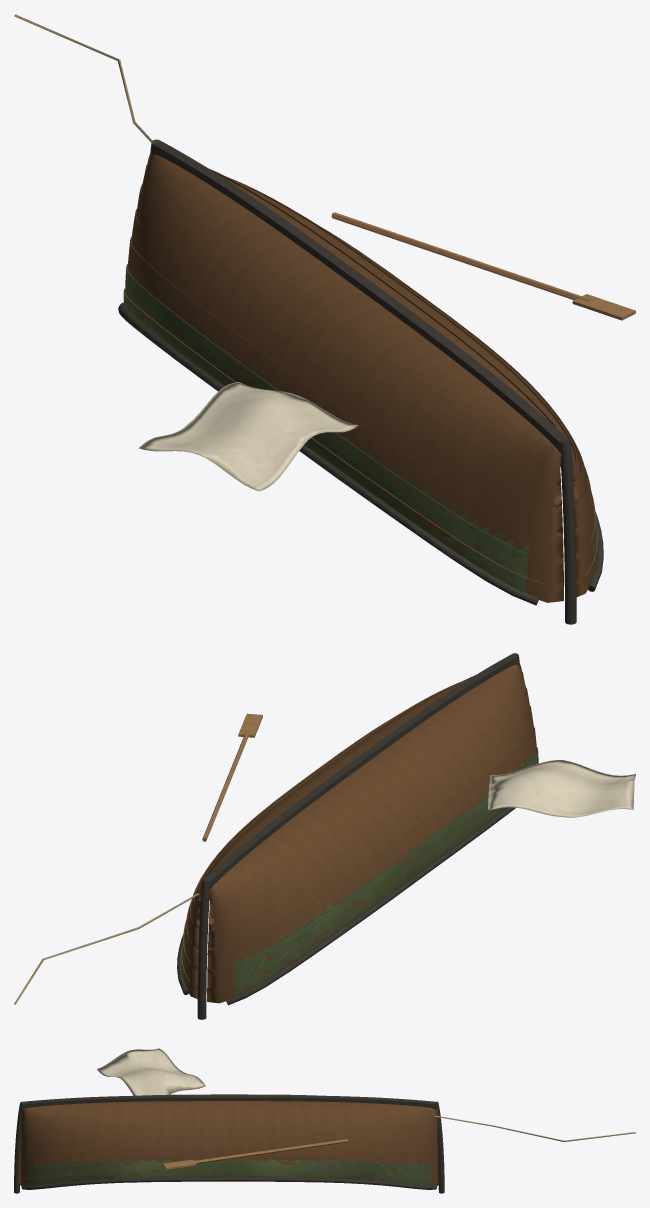
The model's file is ship_lod1.glb.
3 renders of one model, top to bottom at view 1: azimuth 30°, elevation 25°; view 2: azimuth 150°, elevation 25°; view 3: azimuth 270°, elevation 25°, orthographic. The views are drawn at different scales.
Parts seen in each view (by area): view 1: lod1_strake_starboard_05, lod1_strake_starboard_04, lod1_strake_starboard_03, lod1_strake_starboard_06, lod1_floating_sailcloth, lod1_strake_starboard_02, lod1_strake_starboard_07, lod1_strake_starboard_01, lod1_keel, lod1_strake_starboard_08, lod1_gunwale_starboard, lod1_strake_port_02 (+5 smaller); view 2: lod1_strake_starboard_05, lod1_strake_starboard_04, lod1_strake_starboard_06, lod1_strake_starboard_03, lod1_floating_sailcloth, lod1_strake_starboard_02, lod1_strake_starboard_07, lod1_strake_starboard_01, lod1_keel, lod1_strake_starboard_08, lod1_gunwale_starboard, lod1_strake_port_02 (+6 smaller); view 3: lod1_strake_port_05, lod1_strake_port_06, lod1_strake_port_04, lod1_strake_port_07, lod1_strake_port_03, lod1_strake_port_02, lod1_floating_sailcloth, lod1_strake_port_08, lod1_keel, lod1_strake_port_01, lod1_gunwale_port, lod1_floating_oar_shaft (+3 smaller).
Boxes of the visible parts, x1,y1,x2,y2 form: lod1_strake_starboard_05: (131, 209, 562, 533); lod1_strake_starboard_04: (136, 184, 561, 508); lod1_strake_starboard_03: (141, 165, 561, 489); lod1_strake_starboard_06: (127, 236, 563, 559); lod1_floating_sailcloth: (139, 382, 358, 491); lod1_strake_starboard_02: (147, 153, 561, 471); lod1_strake_starboard_07: (125, 264, 563, 584); lod1_strake_starboard_01: (151, 154, 561, 458); lod1_keel: (152, 141, 569, 451); lod1_strake_starboard_08: (123, 288, 563, 602); lod1_gunwale_starboard: (118, 302, 539, 605); lod1_strake_port_02: (209, 168, 575, 467); lod1_strake_starboard_05: (208, 706, 533, 951); lod1_strake_starboard_04: (208, 687, 530, 931); lod1_strake_starboard_06: (207, 726, 536, 970); lod1_strake_starboard_03: (209, 672, 526, 917); lod1_floating_sailcloth: (488, 760, 635, 817); lod1_strake_starboard_02: (209, 664, 522, 903); lod1_strake_starboard_07: (207, 747, 538, 989); lod1_strake_starboard_01: (209, 664, 518, 894); lod1_keel: (203, 655, 518, 889); lod1_strake_starboard_08: (207, 807, 506, 1003); lod1_gunwale_starboard: (226, 807, 515, 1005); lod1_strake_port_02: (198, 675, 474, 901); lod1_strake_port_05: (20, 1137, 438, 1152); lod1_strake_port_06: (19, 1149, 438, 1165); lod1_strake_port_04: (21, 1125, 437, 1138); lod1_strake_port_07: (19, 1161, 439, 1177); lod1_strake_port_03: (21, 1115, 437, 1126); lod1_strake_port_02: (21, 1107, 437, 1116); lod1_floating_sailcloth: (97, 1048, 205, 1095); lod1_strake_port_08: (19, 1171, 439, 1186); lod1_keel: (23, 1095, 435, 1108); lod1_strake_port_01: (23, 1101, 435, 1109); lod1_gunwale_port: (21, 1177, 436, 1189); lod1_floating_oar_shaft: (189, 1139, 348, 1163).
Size of the model in its own units: 4.53 by 1.63 by 9.56.
6 materials, 6 textured.
